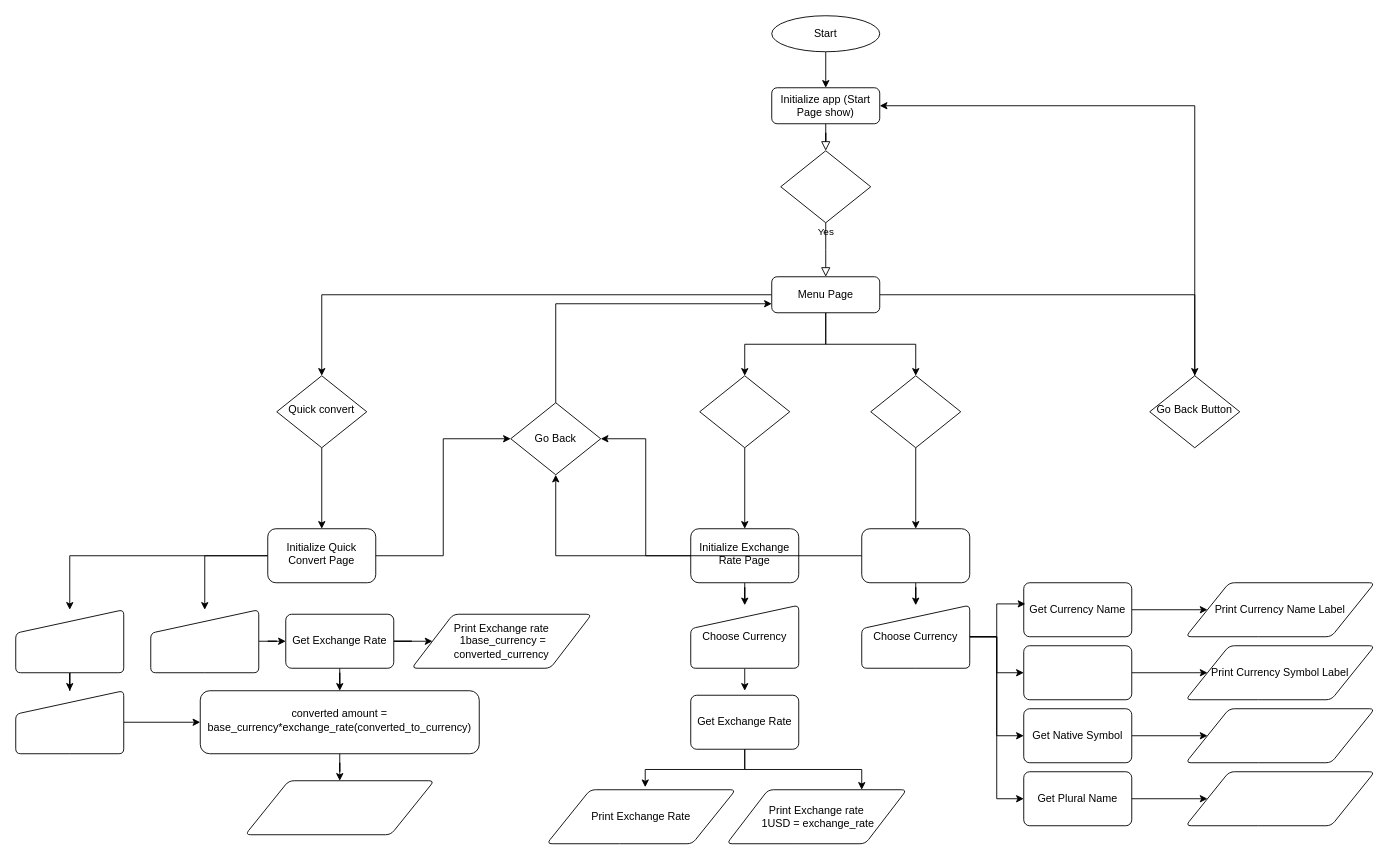
Some shapes in this 1391 by 860 pixel diagram are drawn without their labels. The box of each missing label's shape, as (x1, y1, x2, y2) in pixels:
Choose Base Currency: (15, 609, 124, 673)
Choose Convert to Currency: (150, 609, 259, 673)
Currency Dictionary: (870, 375, 961, 448)
Enter amount to be converted: (15, 690, 124, 754)
Exchange Rate: (699, 375, 790, 448)
Get Currency Symbol: (1023, 645, 1132, 700)
Initialize Currency Dictionary Page: (861, 528, 970, 583)
Navigate to Menu: (780, 150, 871, 223)
Print Converted amount: (244, 780, 434, 835)
Print Native Symbol Label: (1185, 708, 1375, 763)
Print Plural Name Label: (1185, 771, 1375, 826)
